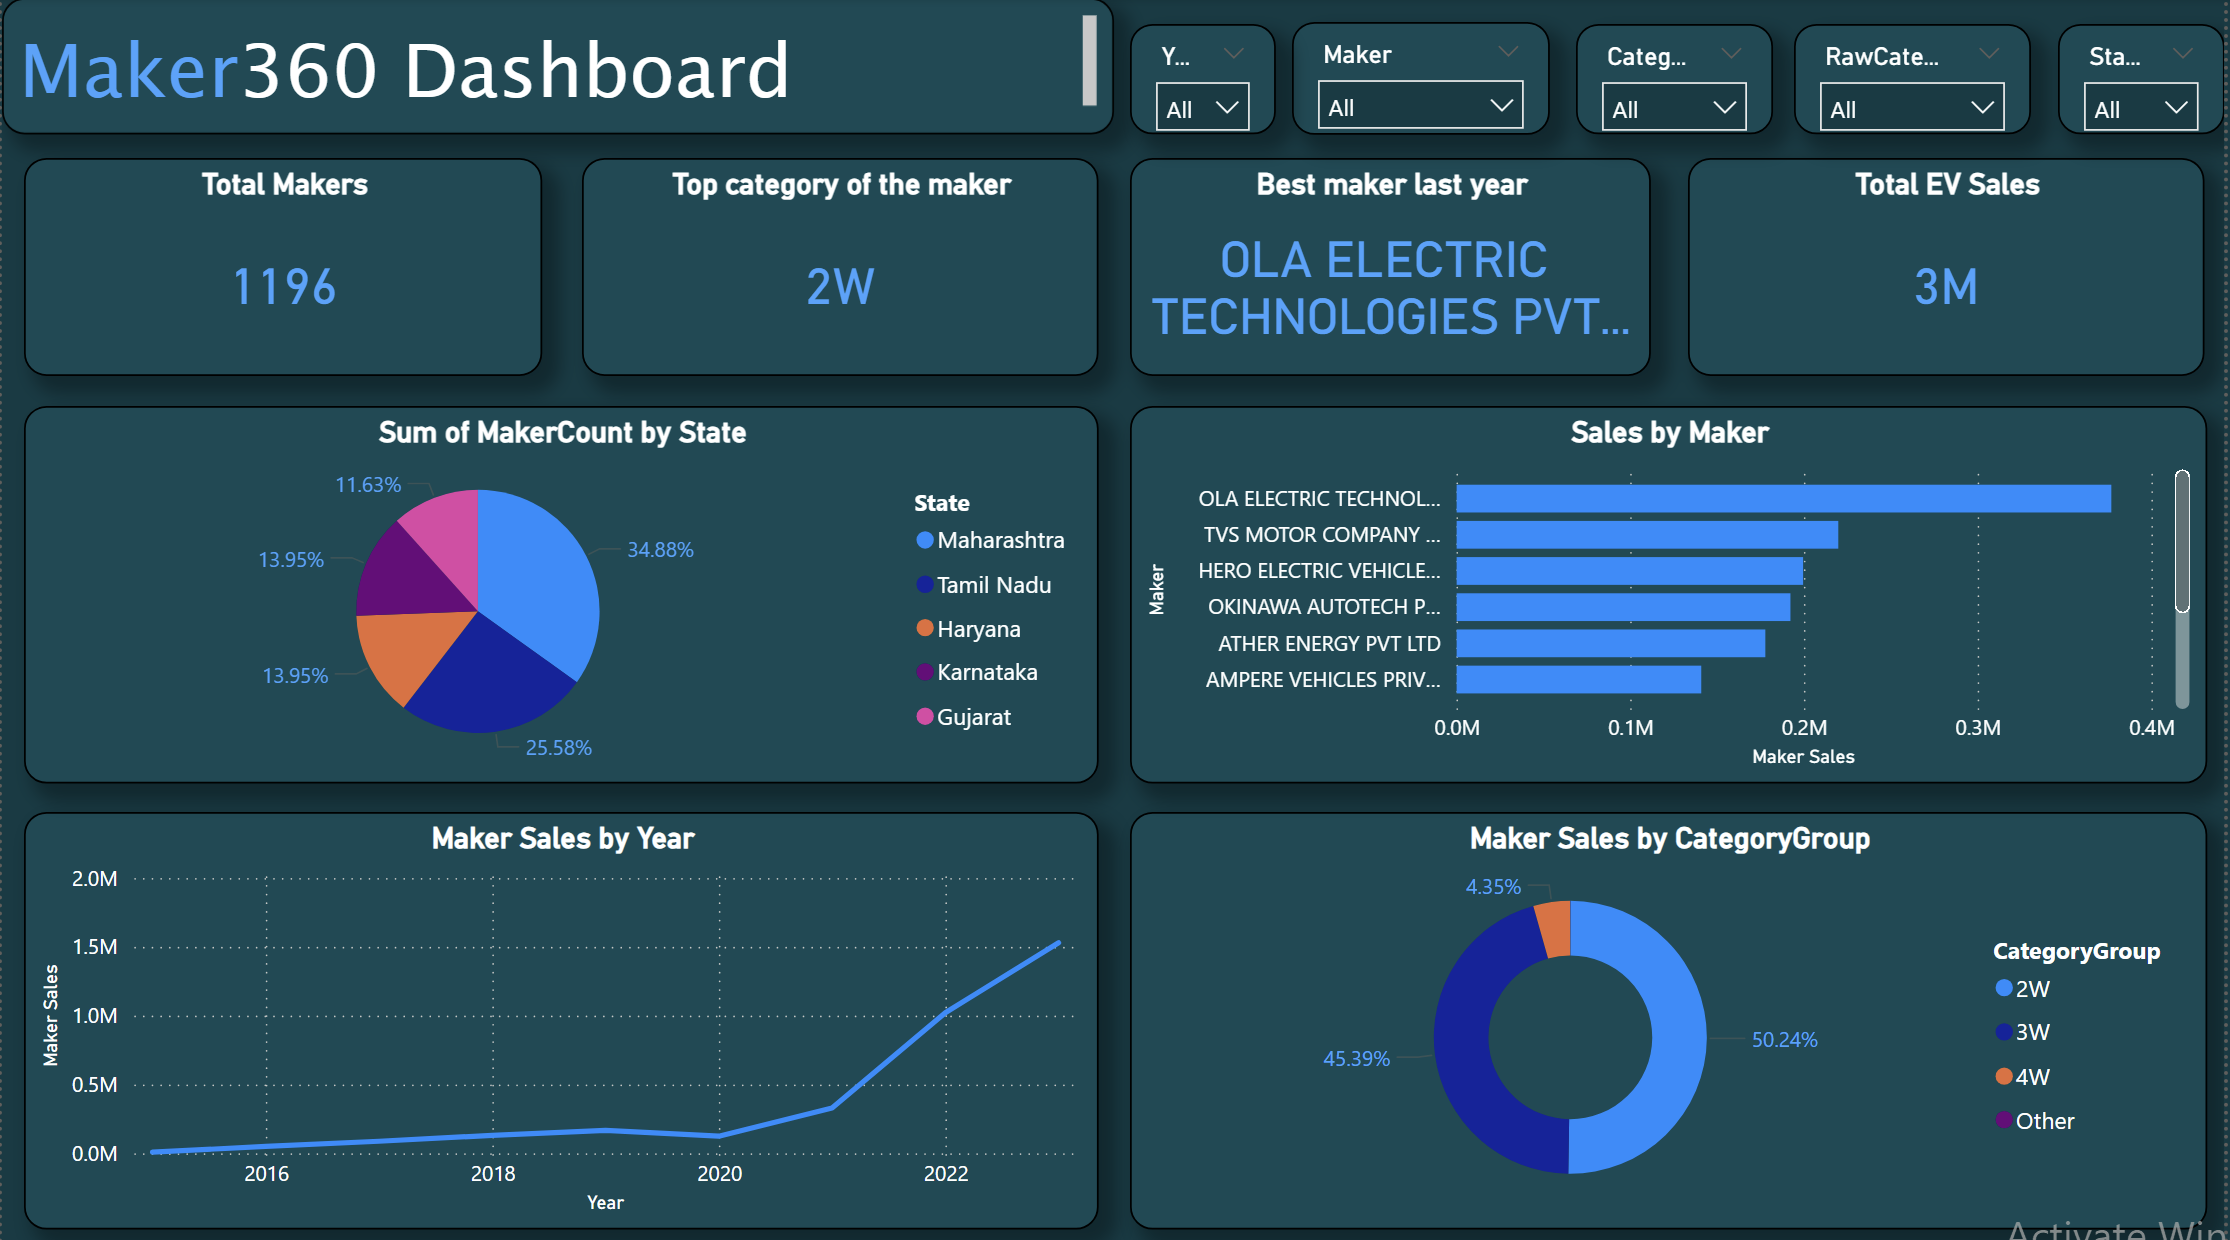

This screenshot's page, from the dashboard's own definition file:
{"tool":"powerbi","page":{"name":"Page 2","canvas":[1280,720],"ordinal":1},"visuals":[{"type":"textbox","box":[0,0,640.5,78.5],"z":0},{"type":"card","title":"Total Makers","fields":{"Values":["CategoryMap.Total Active Manufacturers"]},"box":[12.2,91.9,298.6,125.7],"z":1000},{"type":"card","title":"Best maker last year","fields":{"Values":["CategoryMap.Top Maker"]},"box":[650,91.9,300,125.7],"z":2000},{"type":"card","title":"Top category of the maker","fields":{"Values":["CategoryMap.Top Category for Maker"]},"box":[333.8,91.9,297.3,125.7],"z":3000},{"type":"slicer","fields":{"Values":["Fact_MakerSales.Maker"]},"box":[743.2,13.5,148.6,64.9],"z":4000},{"type":"card","title":"Total EV Sales","fields":{"Values":["Sum(Fact_MakerSales.Sales)"]},"box":[971.6,91.9,297.3,125.7],"z":5000},{"type":"slicer","fields":{"Values":["Fact_Category.Year"]},"box":[650,14.9,83.8,63.5],"z":6000},{"type":"slicer","fields":{"Values":["CategoryMap.CategoryGroup"]},"box":[906.8,14.9,113.5,63.5],"z":7000},{"type":"slicer","fields":{"Values":["Fact_Category.RawCategory"]},"box":[1032.4,14.9,136.5,63.5],"z":8000},{"type":"slicer","fields":{"Values":["Dim_MakerLocation.State"]},"box":[1183.8,14.9,95.9,63.5],"z":9000},{"type":"lineChart","fields":{"Category":["Fact_MakerSales.Year"],"Y":["Fact_MakerSales.Maker Sales"]},"box":[12.2,468.9,618.9,240.5],"z":10000},{"type":"donutChart","fields":{"Category":["CategoryMap.CategoryGroup"],"Y":["Fact_MakerSales.Maker Sales"]},"box":[650,468.9,620.3,240.5],"z":11000},{"type":"clusteredBarChart","title":"Sales by Maker","fields":{"Category":["Fact_MakerSales.Maker"],"Y":["Fact_MakerSales.Maker Sales"]},"box":[650,235.1,620.3,217.6],"z":12000},{"type":"pieChart","fields":{"Category":["Dim_State.State"],"Y":["Sum(Dim_State.MakerCount)"]},"box":[12.2,235.1,618.9,217.6],"z":13000}]}

Visuals, with their boxes in screenshot pixels (x1, y1, x2, y2), scaled from the page's 1280x720 canvas onto the 2230x1240 screenshot:
textbox: (0,0,1116,135)
"Total Makers" card: (21,158,541,375)
"Best maker last year" card: (1132,158,1655,375)
"Top category of the maker" card: (582,158,1099,375)
slicer - Fact_MakerSales.Maker: (1295,23,1554,135)
"Total EV Sales" card: (1693,158,2211,375)
slicer - Fact_Category.Year: (1132,26,1278,135)
slicer - CategoryMap.CategoryGroup: (1580,26,1778,135)
slicer - Fact_Category.RawCategory: (1799,26,2036,135)
slicer - Dim_MakerLocation.State: (2062,26,2229,135)
lineChart - Fact_MakerSales.Year x Fact_MakerSales.Maker Sales: (21,808,1099,1222)
donutChart - CategoryMap.CategoryGroup x Fact_MakerSales.Maker Sales: (1132,808,2213,1222)
"Sales by Maker" clusteredBarChart: (1132,405,2213,780)
pieChart - Dim_State.State x Sum(Dim_State.MakerCount): (21,405,1099,780)
